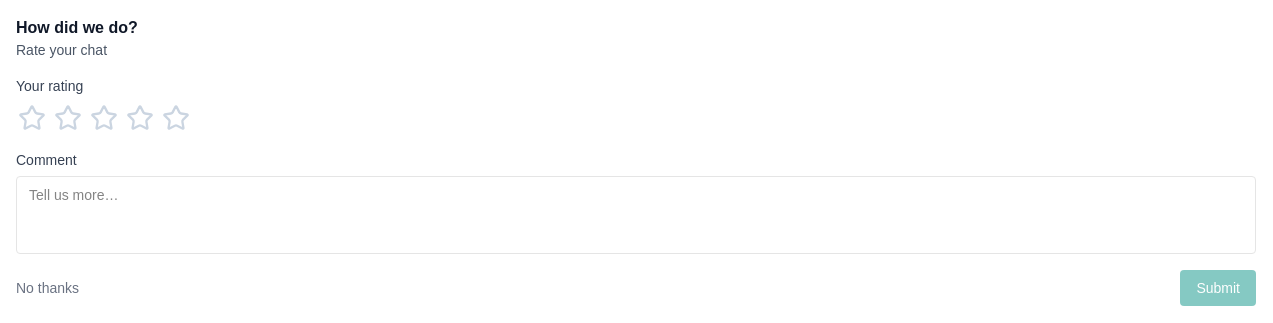
Test: CsatPanel › Submit_ShouldReachDoneState_WhenCaptureSucceeds
Click the radio button with test id "webchat-csat-star-3": (104, 118) [88,102,120,134]
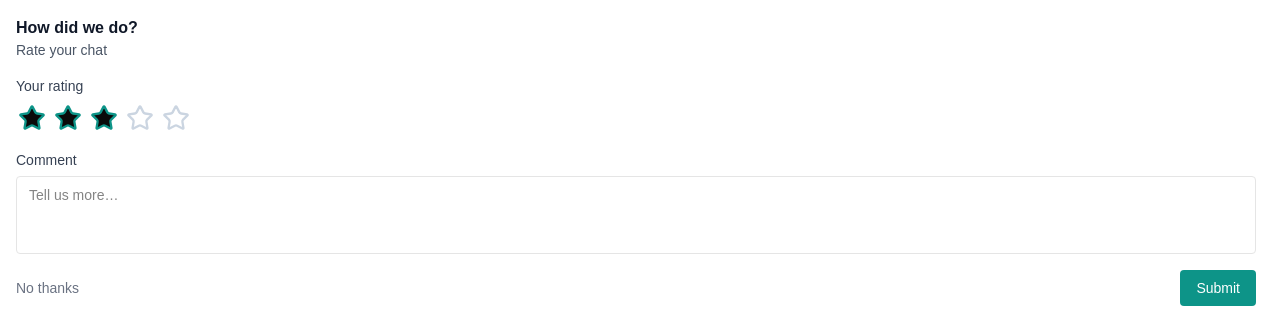
Click the button with test id "webchat-csat-submit": (1218, 288) [1180,270,1256,306]
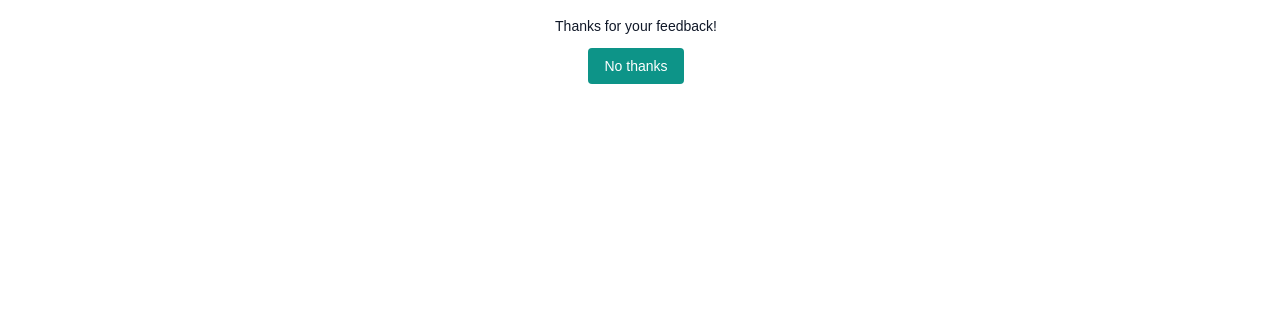
Expected: the text "Thanks for your feedback!" is shown, [555,16,717,36]
